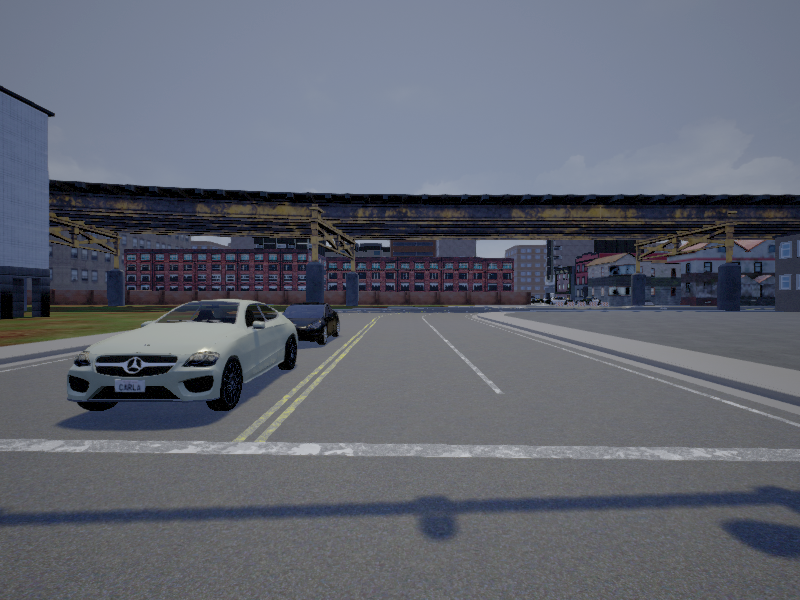Benign: (67, 299, 300, 411), (286, 306, 339, 345)
